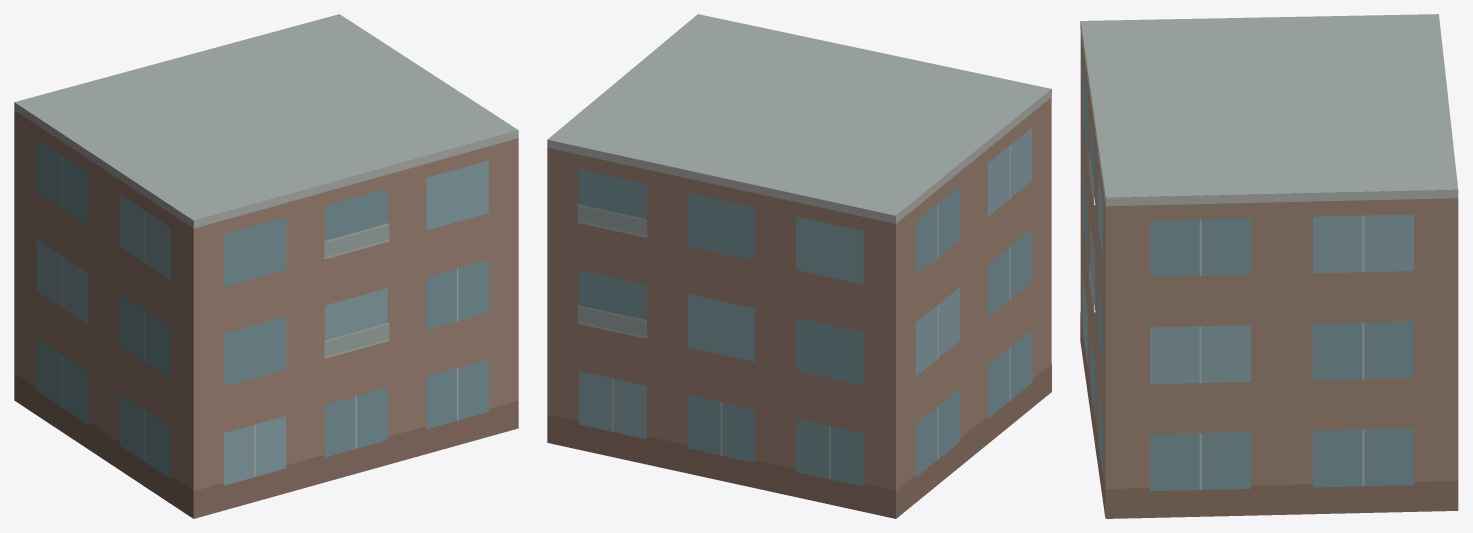
Rendered from survey-upis-32471947.glb.
3 renders of one model, left to right at view 1: azimuth 30°, elevation 25°; view 2: azimuth 150°, elevation 25°; view 3: azimuth 270°, elevation 25°, orthographic. The views are drawn at different scales.
Parts seen in each view (by area): view 1: survey-upis-32471947.tmp; view 2: survey-upis-32471947.tmp; view 3: survey-upis-32471947.tmp.
Part boxes in pixels (bbox=[...]): survey-upis-32471947.tmp: bbox=[14, 14, 518, 518]; survey-upis-32471947.tmp: bbox=[547, 14, 1051, 518]; survey-upis-32471947.tmp: bbox=[1080, 14, 1458, 518].
Size of the model in its own units: 11.24 by 9.15 by 9.76.
